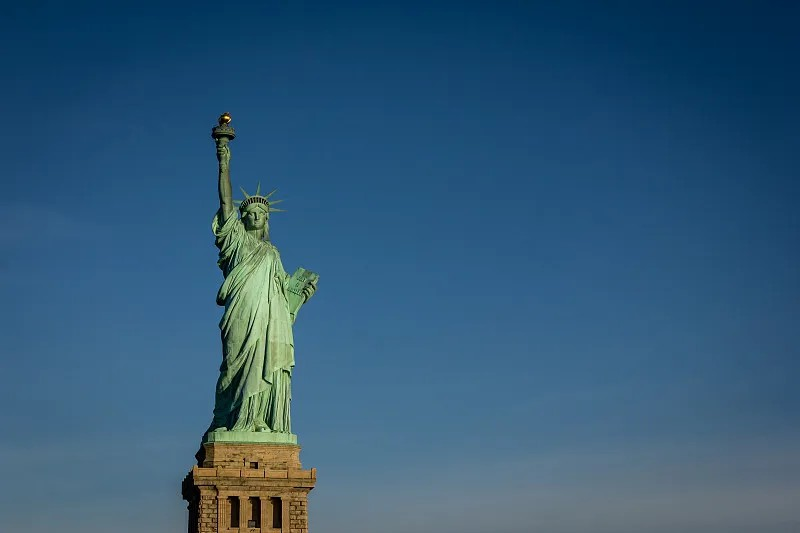SL: (180, 112, 320, 533)
